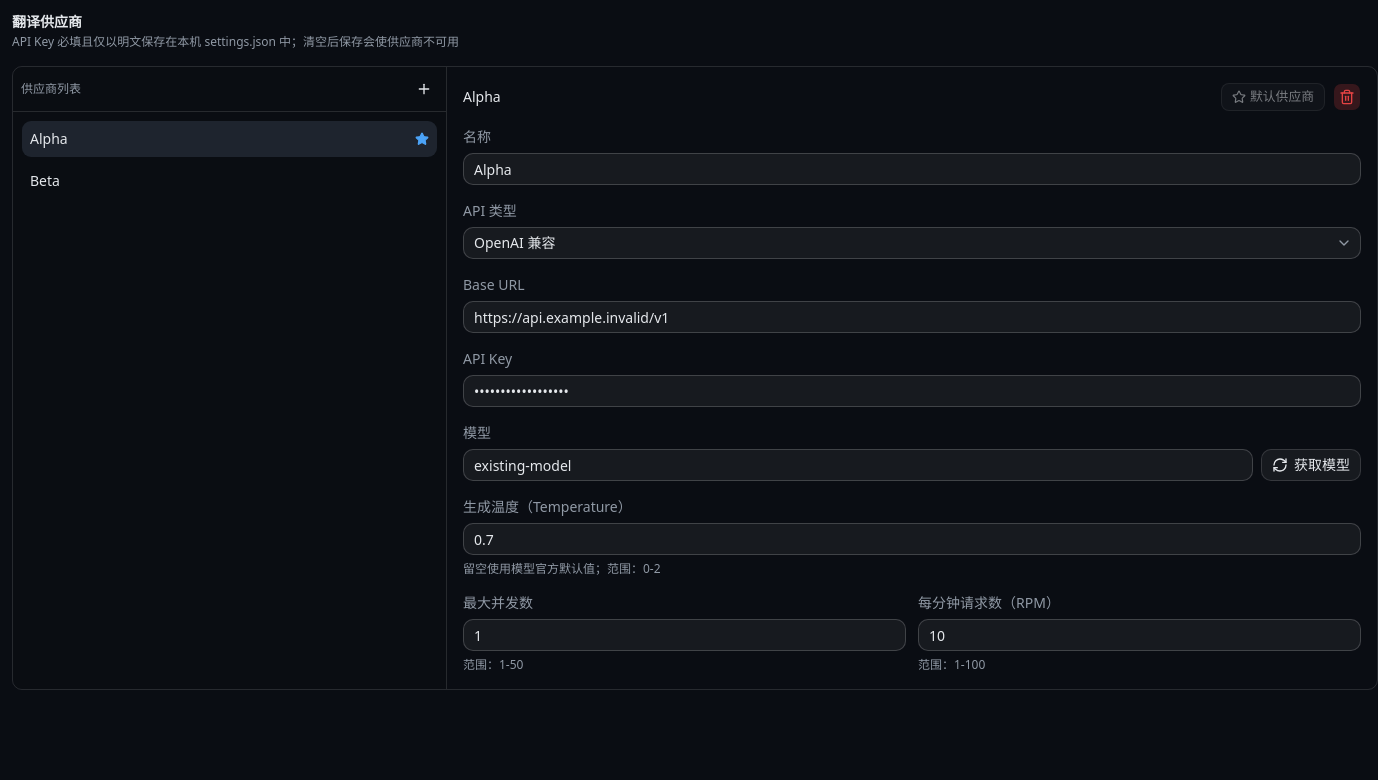
it: SettingsProvidersPanel › preserves the selected model when discovery fails
The width and height of the screenshot is (1378, 780).
Expected: the field labelled "模型" holds "existing-model", [463,449,1253,481]
Click the button "获取模型" at (1311, 465), box [1261,449,1361,481]
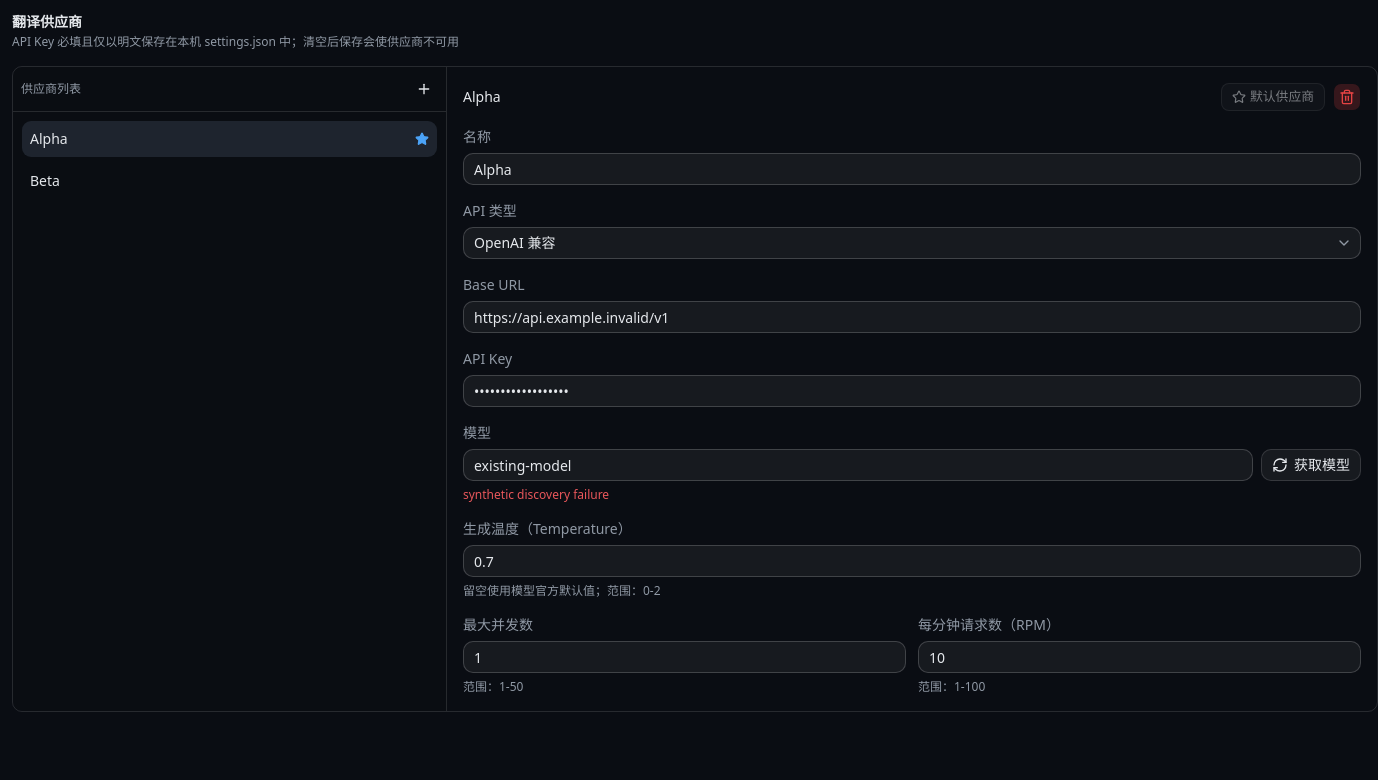
Expected: the field labelled "模型" holds "existing-model", [463,449,1253,481]
Expected: the text "synthetic discovery failure" is shown, [463,486,609,503]
